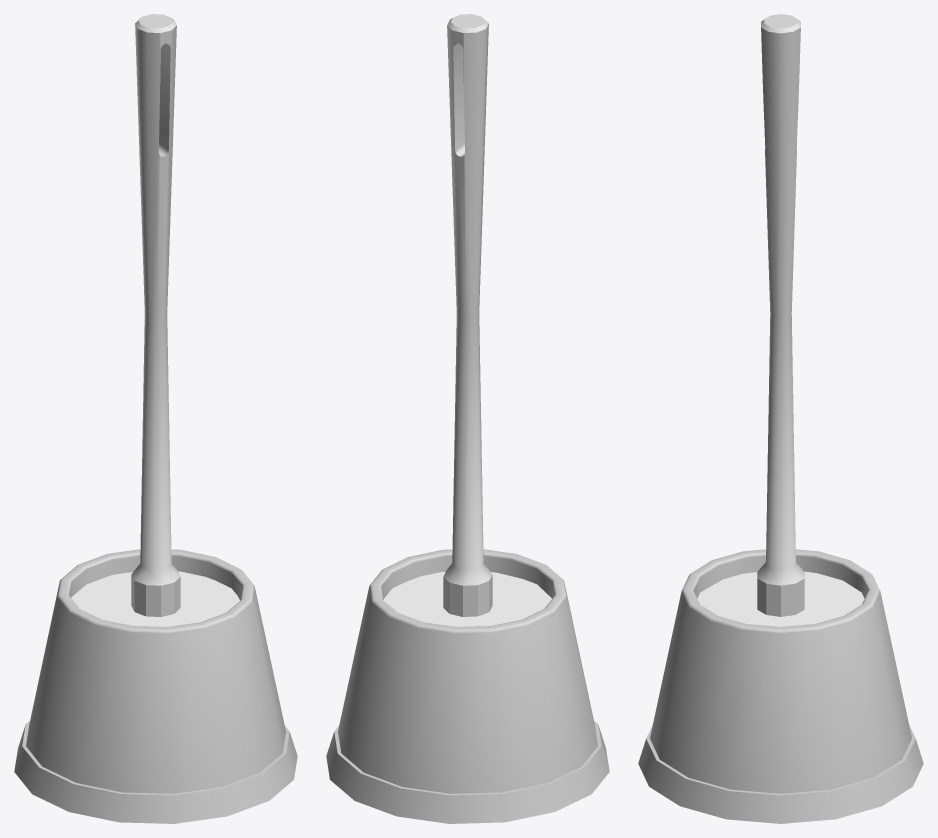
The model's file is ershik.FBX.
The picture shows the model from 3 angles, left to right: view 1: azimuth 30°, elevation 25°; view 2: azimuth 150°, elevation 25°; view 3: azimuth 270°, elevation 25°; orthographic projection.
Visible parts, largest first — view 1: Line001, Cylinder001, Cylinder003; view 2: Line001, Cylinder001, Cylinder003; view 3: Line001, Cylinder001, Cylinder003.
Part boxes in pixels (x1=…): Line001: x1=14, y1=549, x2=297, y2=823; Cylinder001: x1=131, y1=14, x2=180, y2=616; Cylinder003: x1=71, y1=571, x2=239, y2=626; Line001: x1=326, y1=549, x2=609, y2=823; Cylinder001: x1=443, y1=14, x2=492, y2=616; Cylinder003: x1=383, y1=572, x2=551, y2=626; Line001: x1=638, y1=549, x2=923, y2=823; Cylinder001: x1=757, y1=14, x2=804, y2=616; Cylinder003: x1=697, y1=571, x2=864, y2=626.
Size of the model in its own units: 2.72 by 7.79 by 2.72.
